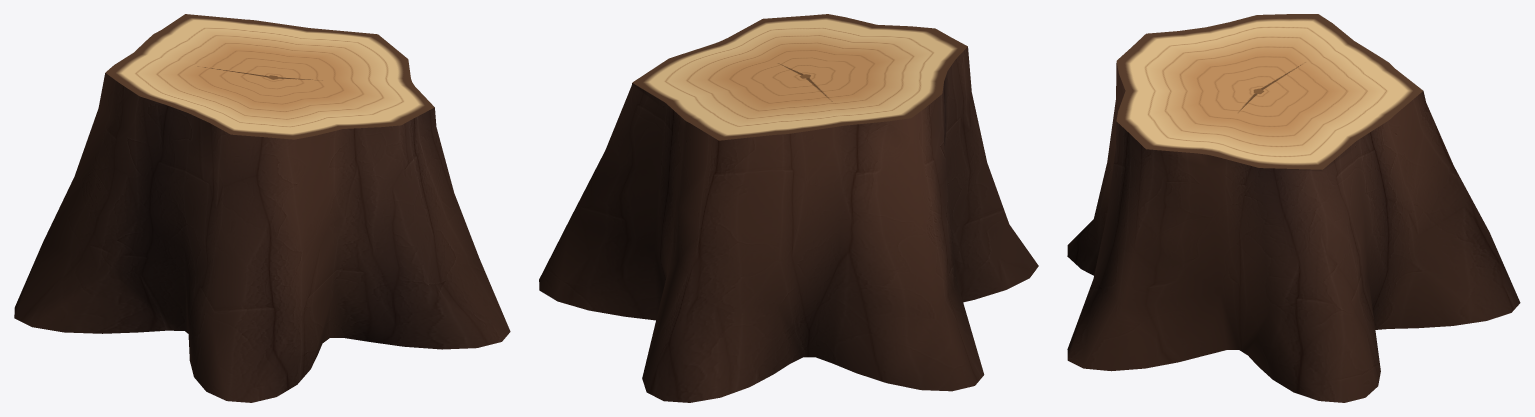
File: Stump_CommonTree_2.gltf
3 views of the same model, side by side, from view 1: azimuth 30°, elevation 25°; view 2: azimuth 150°, elevation 25°; view 3: azimuth 270°, elevation 25° (orthographic). The views are drawn at different scales.
Visible parts, largest first — view 1: Stump_CommonTree_2; view 2: Stump_CommonTree_2; view 3: Stump_CommonTree_2.
Boxes of the visible parts, x1,y1,x2,y2 form: Stump_CommonTree_2: (14,14,510,402); Stump_CommonTree_2: (539,14,1038,402); Stump_CommonTree_2: (1067,14,1520,402).
Size of the model in its own units: 1.42 by 0.7407 by 1.35.
2 materials, 2 textured.
